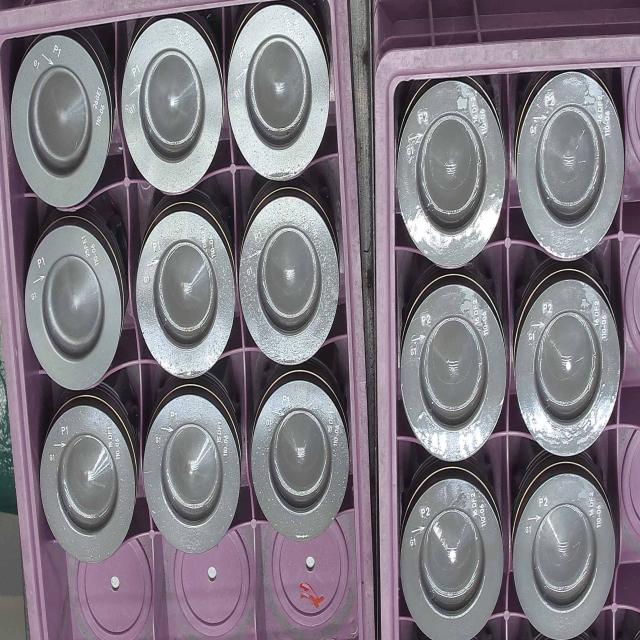P1: (19, 223, 127, 393), (11, 38, 114, 211), (136, 215, 238, 388), (231, 16, 333, 186), (120, 28, 223, 194), (243, 203, 341, 370), (35, 416, 139, 568), (250, 388, 352, 540), (148, 396, 240, 563)
P2: (513, 84, 626, 266), (398, 282, 510, 465), (513, 284, 626, 462), (397, 88, 503, 274), (512, 474, 614, 640), (404, 477, 501, 640)
